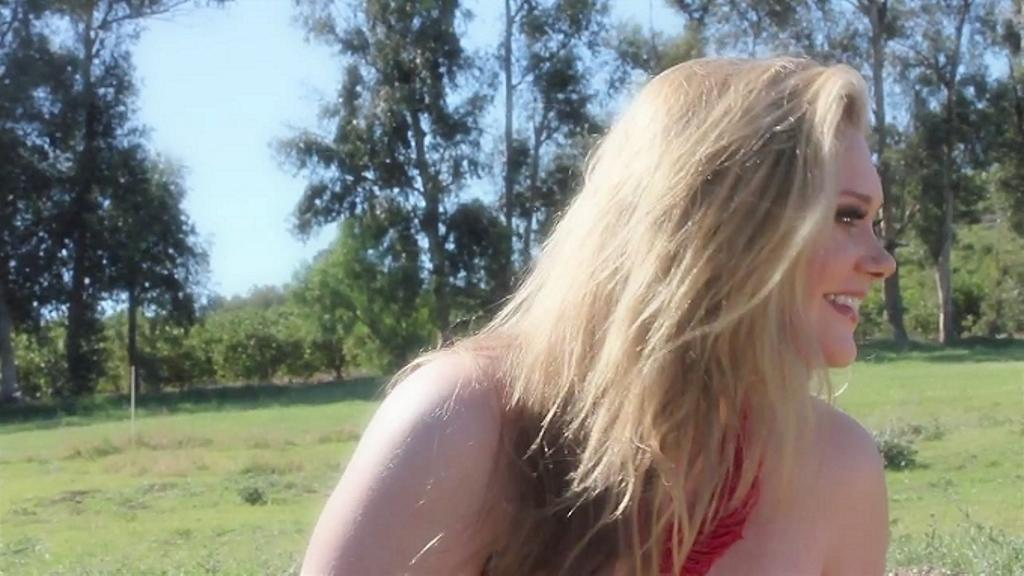face: (764, 124, 886, 360)
